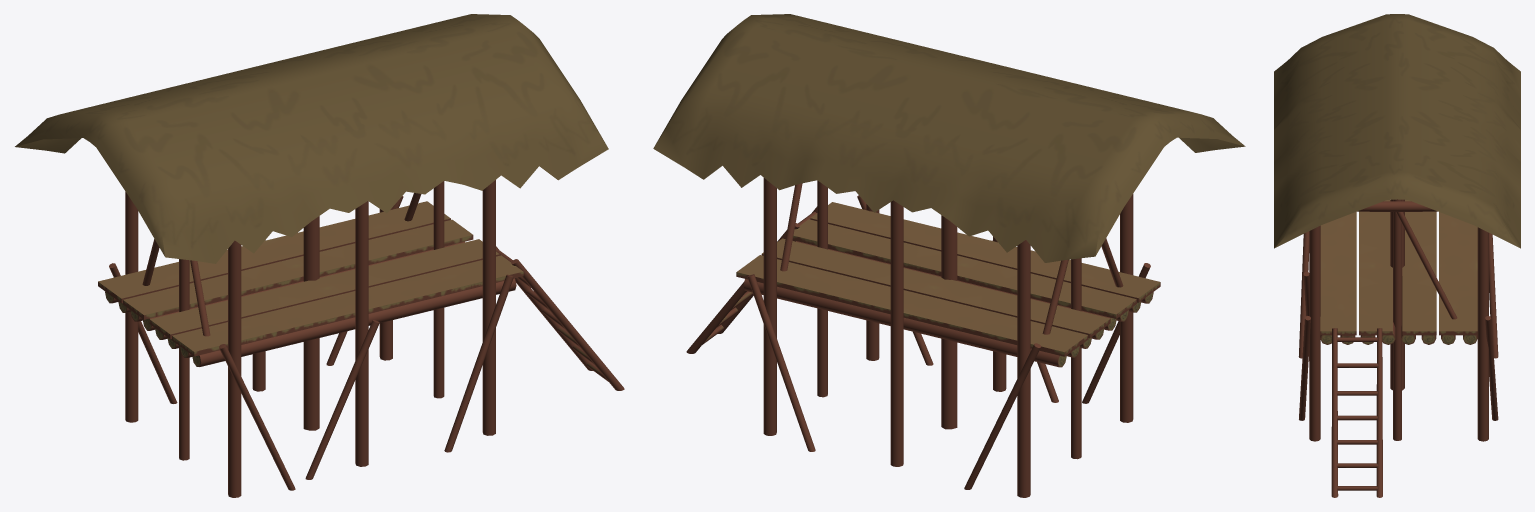
The model's file is Estrutura_Composicao.fbx.
3 renders of one model, left to right at view 1: azimuth 30°, elevation 25°; view 2: azimuth 150°, elevation 25°; view 3: azimuth 270°, elevation 25°, orthographic. The views are drawn at different scales.
Visible parts, largest first — view 1: Estrutura_Madeira; view 2: Estrutura_Madeira; view 3: Estrutura_Madeira.
Part boxes in pixels (x1,y1,x2,y2): Estrutura_Madeira: (15,14,624,497); Estrutura_Madeira: (653,14,1245,497); Estrutura_Madeira: (1274,14,1520,497).
Bounding box in the file's own units: 702 × 483 × 369.
Materials: 1 (1 with a texture image).
